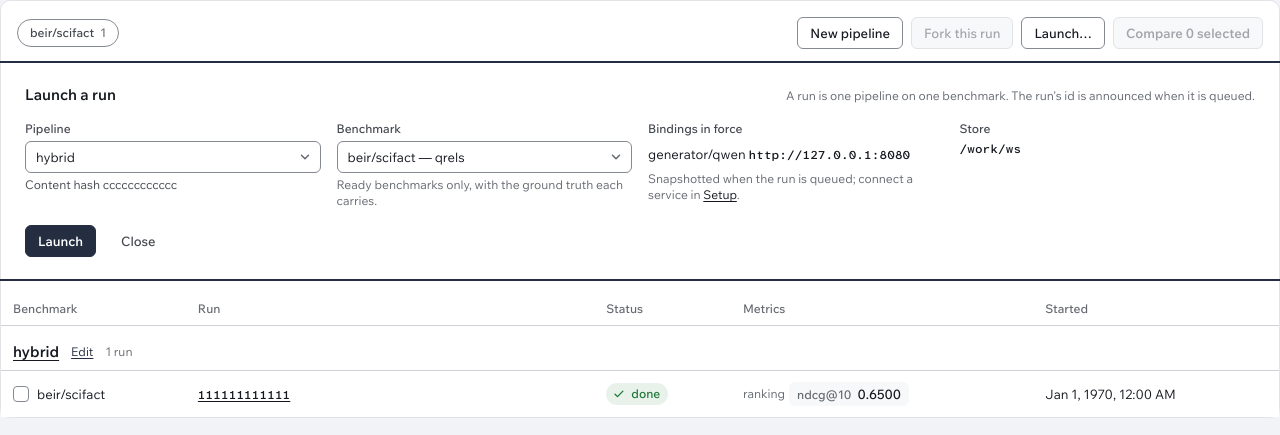
Scenario: the launch panel, as the UX audit left it › closes from a control of its own, taking the launch out of the address
Click the button "Close".
click(138, 241)  # box [108,225,169,257]
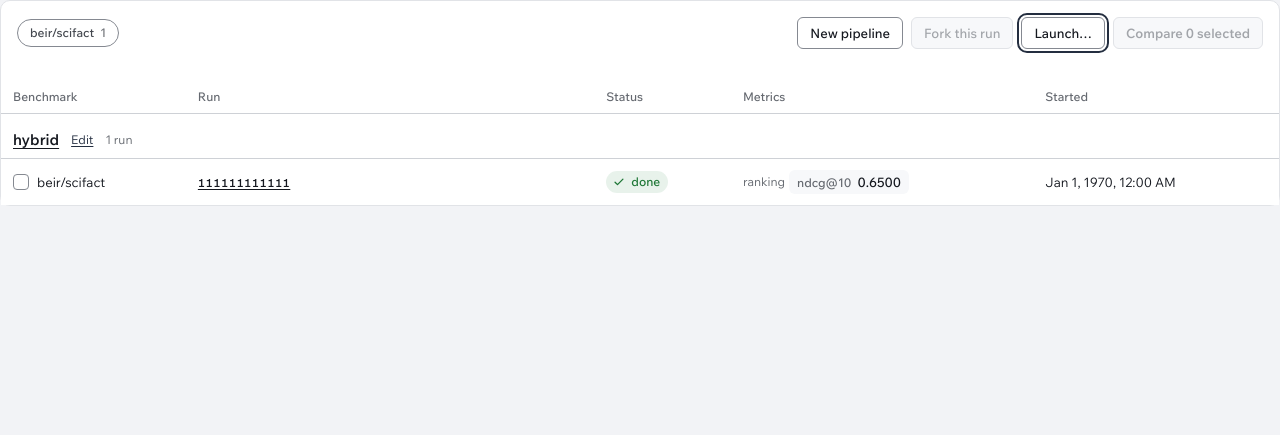
Check: the heading "Launch a run" is gone
